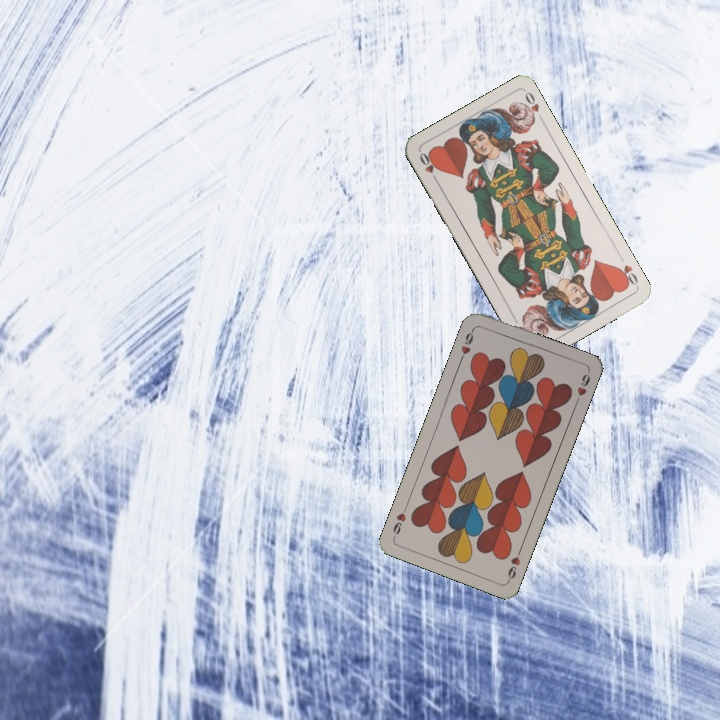H9: (456, 324, 477, 364), (504, 544, 524, 584)
HO: (613, 251, 641, 289), (415, 148, 441, 185)
